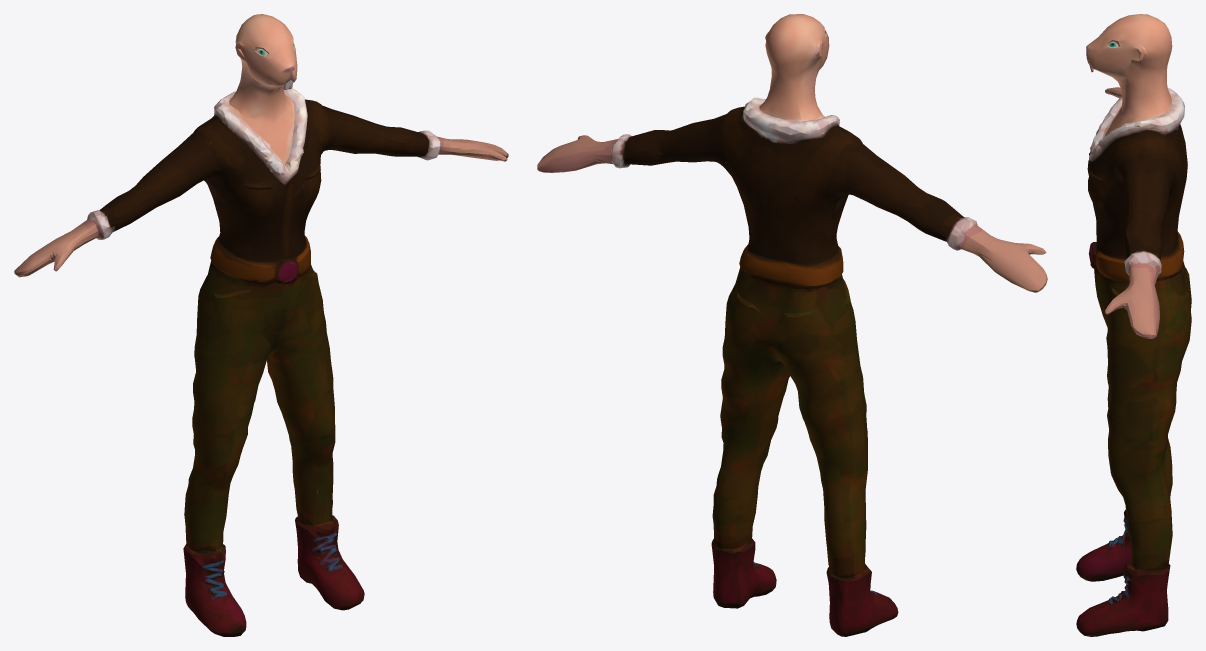
The model's file is SweetAngel_93.fbx.
3 renders of one model, left to right at view 1: azimuth 30°, elevation 25°; view 2: azimuth 150°, elevation 25°; view 3: azimuth 270°, elevation 25°, orthographic. The views are drawn at different scales.
Visible parts, largest first — view 1: SweetAngel_93; view 2: SweetAngel_93; view 3: SweetAngel_93.
Boxes of the visible parts, x1,y1,x2,y2 form: SweetAngel_93: (14, 14, 508, 636); SweetAngel_93: (537, 14, 1047, 636); SweetAngel_93: (1076, 14, 1191, 636).
Size of the model in its own units: 922 by 1054 by 188.
1 material, 1 textured.
